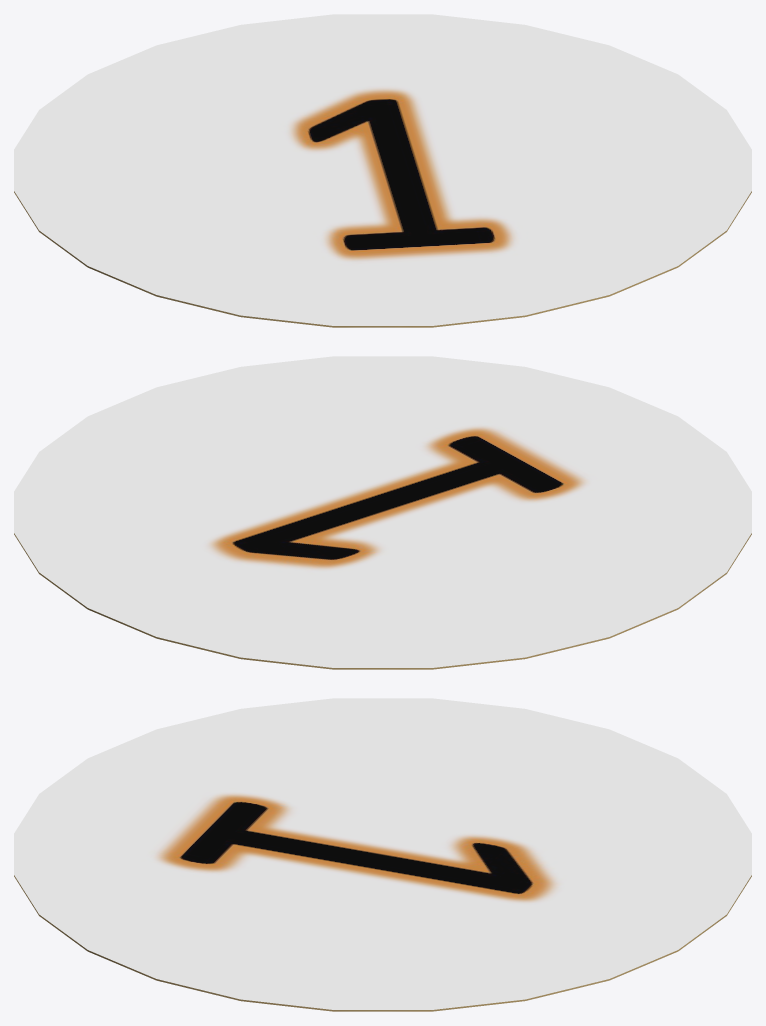
The model's file is Primitive_132-138-021__4ca161cd-e2e6-49d2-9544-1fac96ed9d4e.dae.
3 renders of one model, top to bottom at view 1: azimuth 30°, elevation 25°; view 2: azimuth 150°, elevation 25°; view 3: azimuth 270°, elevation 25°, orthographic.
Visible parts, largest first — view 1: Primitive; view 2: Primitive; view 3: Primitive.
Boxes of the visible parts, <box> form: Primitive: <box>14,14,751,327</box>; Primitive: <box>14,356,751,669</box>; Primitive: <box>14,698,751,1011</box>.
Bounding box in the file's own units: 5.95 × 5.95 × 0.0144.
